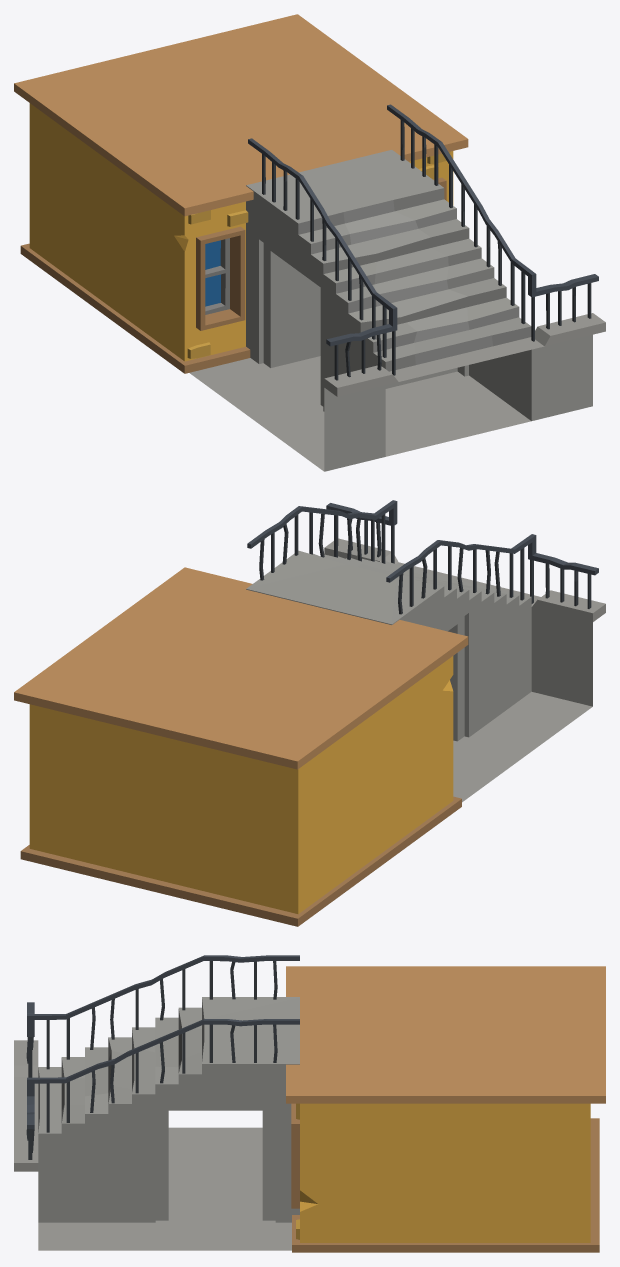
File: SM_Bld_Apartment_Stairs_02.fbx
The picture shows the model from 3 angles, top to bottom: view 1: azimuth 30°, elevation 25°; view 2: azimuth 150°, elevation 25°; view 3: azimuth 270°, elevation 25°; orthographic projection. The views are drawn at different scales.
Visible parts, largest first — view 1: SM_Bld_Apartment_Stairs_02; view 2: SM_Bld_Apartment_Stairs_02; view 3: SM_Bld_Apartment_Stairs_02.
Boxes of the visible parts, x1=… form: SM_Bld_Apartment_Stairs_02: x1=14, y1=14, x2=605, y2=471; SM_Bld_Apartment_Stairs_02: x1=14, y1=500, x2=605, y2=926; SM_Bld_Apartment_Stairs_02: x1=14, y1=955, x2=605, y2=1252.
Size of the model in its own units: 5.28 by 3.82 by 10.18.
Materials: 1 (1 with a texture image).
